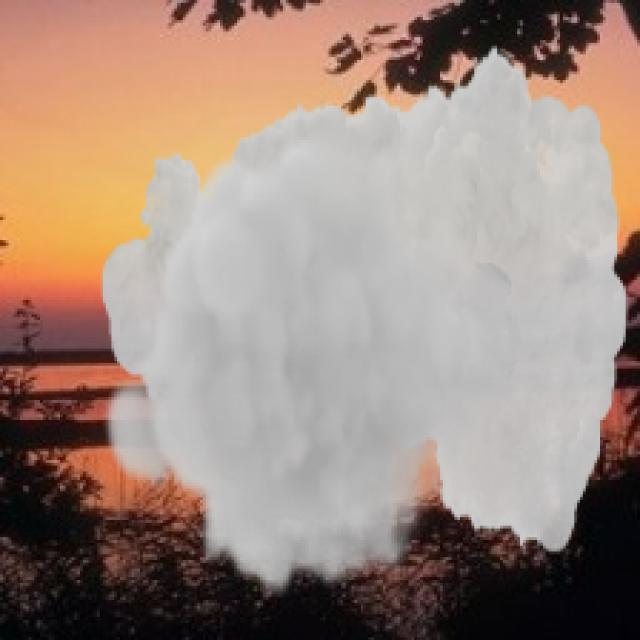Smoke: (100, 42, 629, 598)
